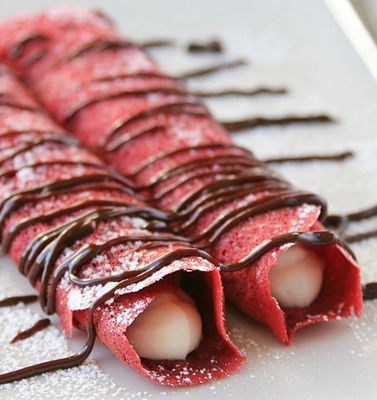pasta: (1, 13, 361, 397)
